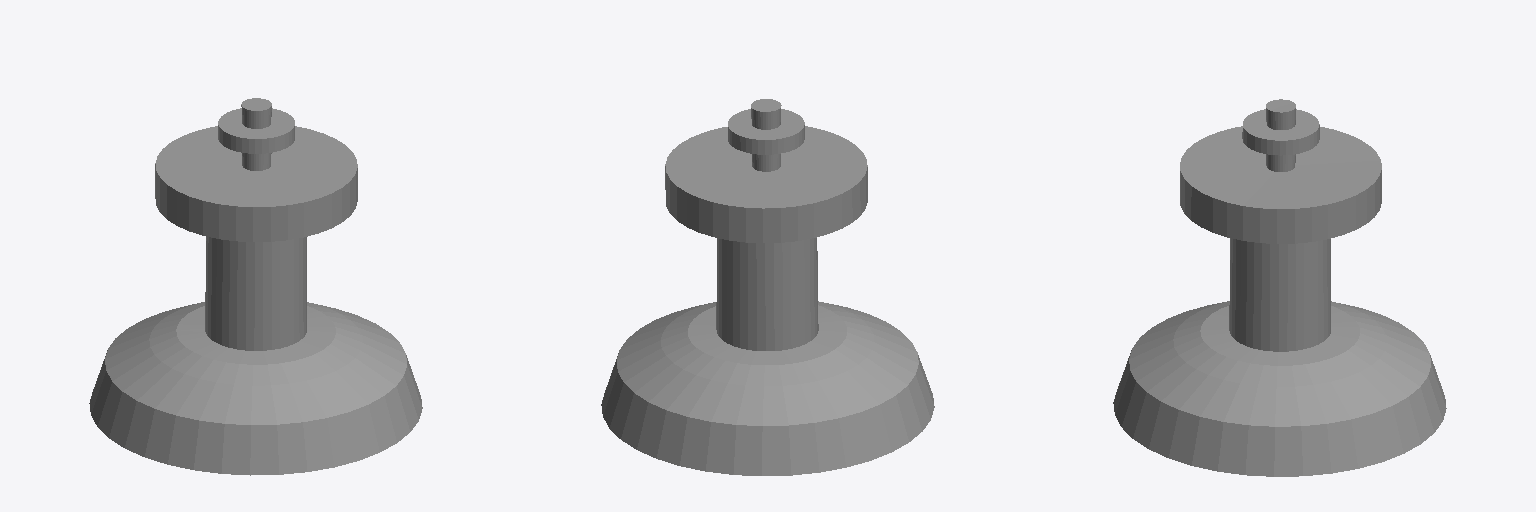
File: whiteking.obj
3 views of the same model, side by side, from view 1: azimuth 30°, elevation 25°; view 2: azimuth 150°, elevation 25°; view 3: azimuth 270°, elevation 25° (orthographic).
Parts seen in each view (by area): view 1: Cube; view 2: Cube; view 3: Cube.
Boxes of the visible parts, box(x1,y1,x2,y2) form: Cube: box(89, 98, 422, 475); Cube: box(601, 99, 934, 475); Cube: box(1113, 99, 1446, 476).
Bounding box in the file's own units: 4.02 × 4.01 × 4.02.